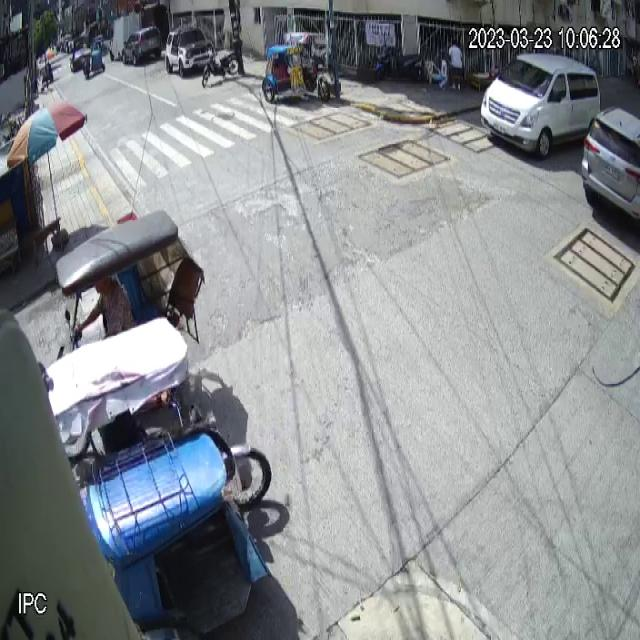Tricycle: (39, 317, 274, 640), (58, 208, 206, 354), (262, 32, 331, 104)
Van: (480, 53, 601, 163)
